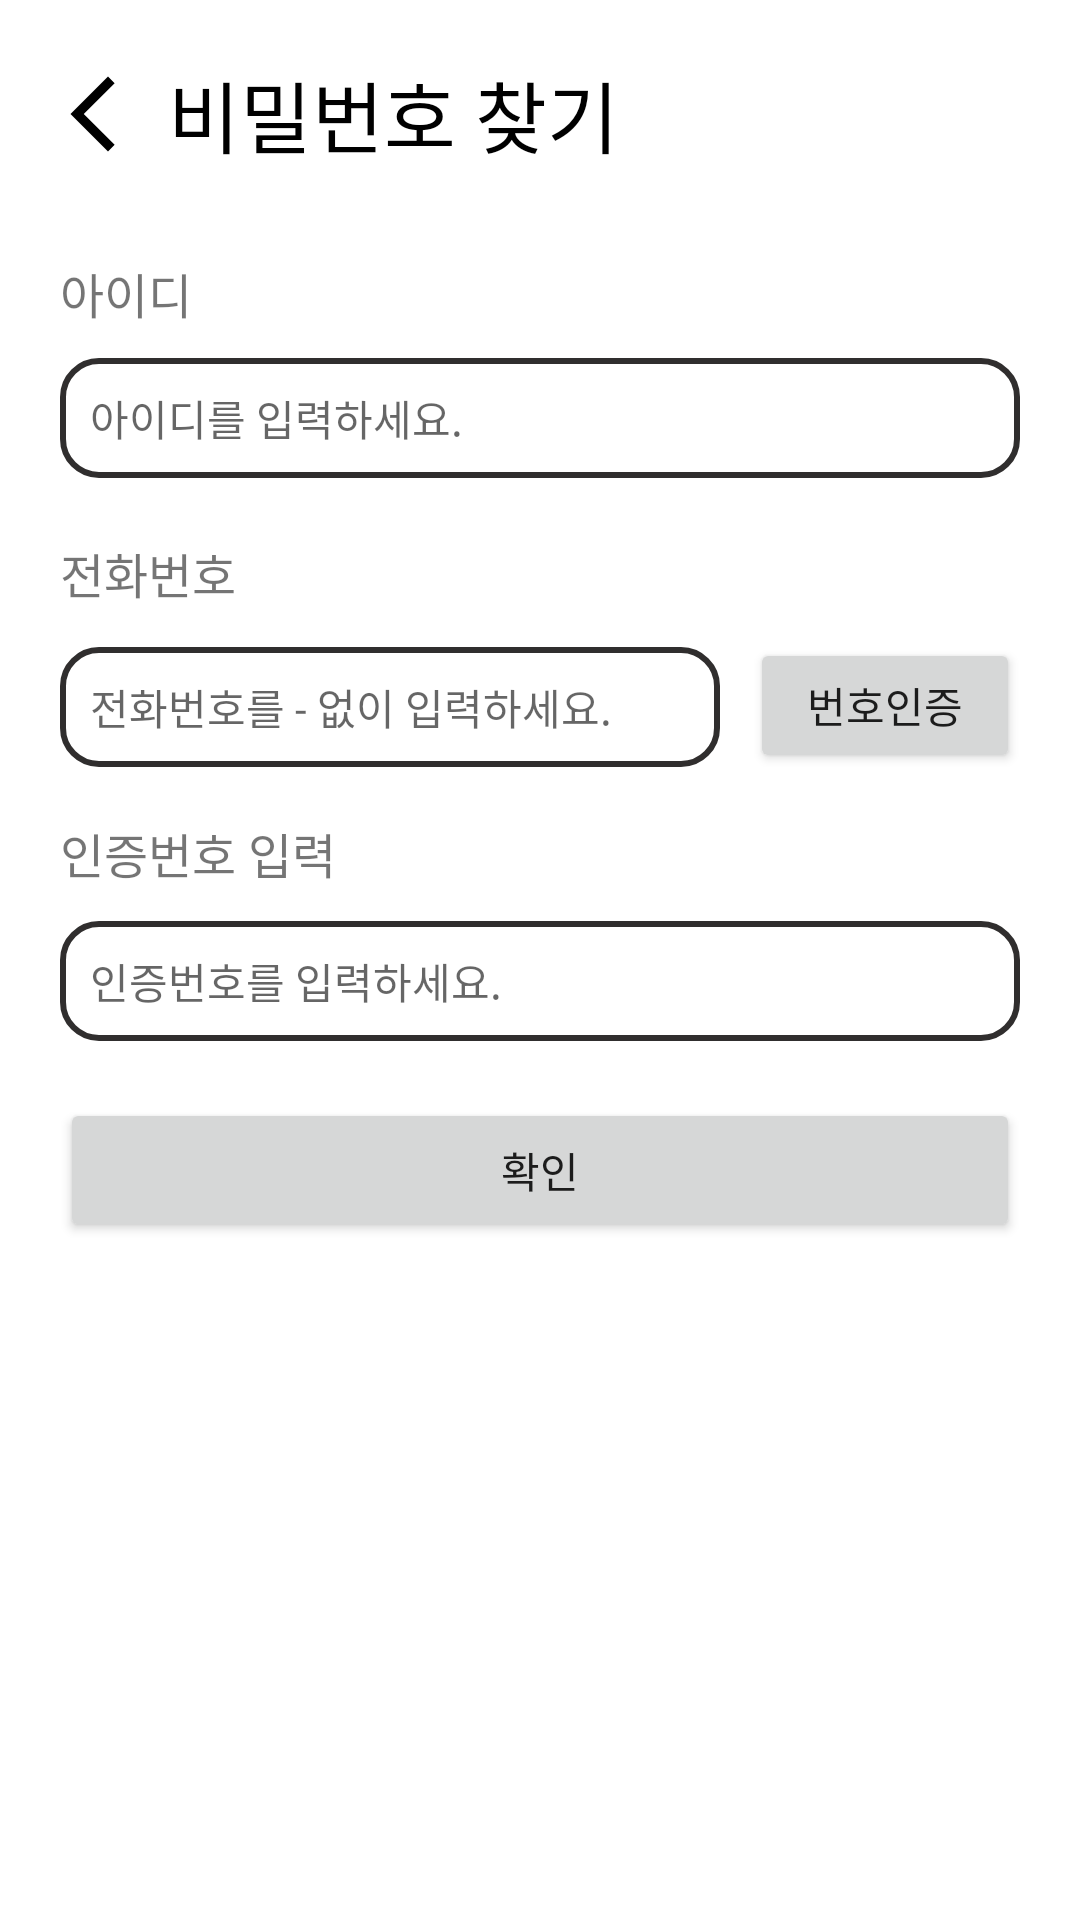

Icon bounding boxes for this 1080px×1920px phone screenshot, format (x1, y1, x2, y2):
back: (70, 76, 115, 152)
